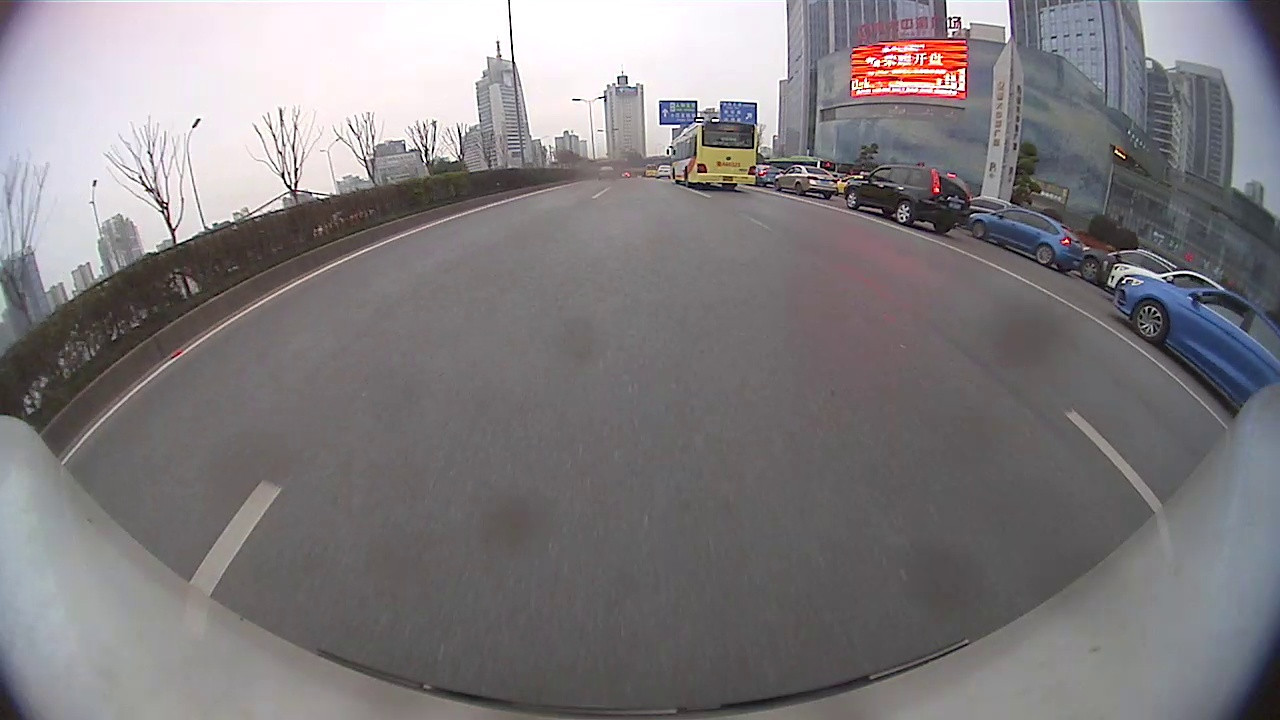bus: (663, 116, 763, 193)
car: (1113, 271, 1279, 412), (842, 161, 973, 235), (963, 205, 1086, 275)
front: (1133, 301, 1167, 347), (1081, 255, 1101, 285), (843, 190, 863, 214), (972, 219, 989, 242)
rear: (895, 200, 915, 226), (1035, 242, 1055, 267)
